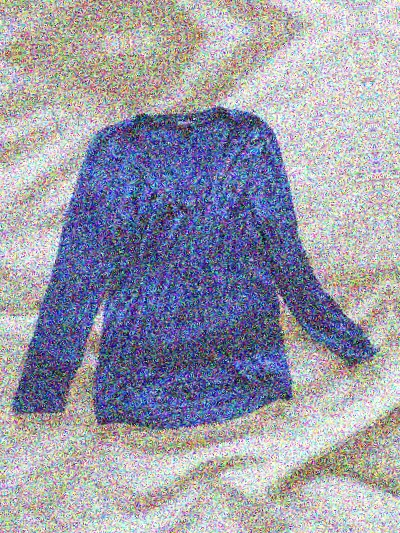Dress: (0, 99, 388, 444), (383, 60, 400, 405)
